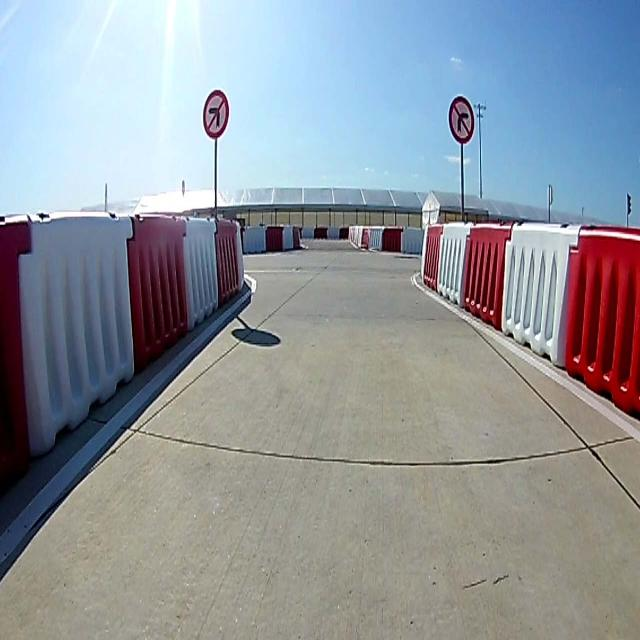sagadonulmez: (449, 95, 474, 141)
soladonulmez: (202, 89, 230, 141)
